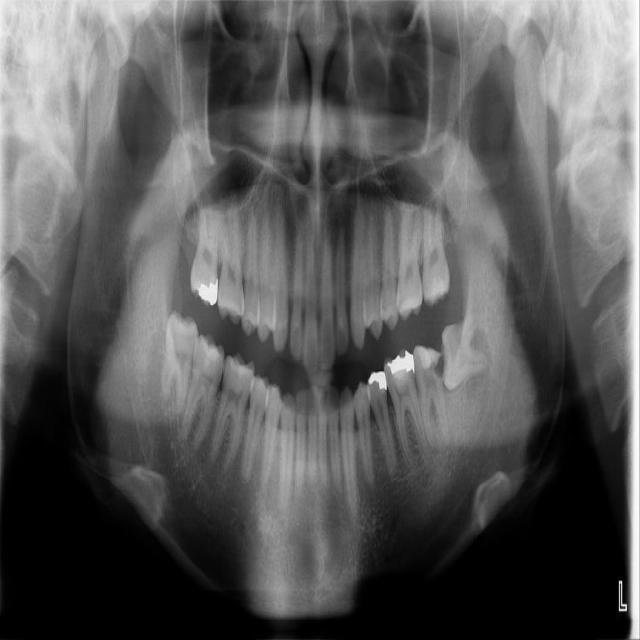52: (377, 346, 423, 397), (410, 344, 447, 388), (190, 253, 220, 306), (423, 259, 450, 307), (365, 371, 388, 408), (433, 352, 447, 379)
73: (574, 564, 580, 575)
BioHorizons Implant: (422, 184, 450, 307)
Biomet 3i Implant: (440, 310, 489, 390)
Blue Sky Bio Implant: (411, 342, 451, 450)
Caries: (190, 175, 220, 307)
Implant: (178, 330, 230, 453)
Keystone Dental Implant: (159, 308, 201, 418)
